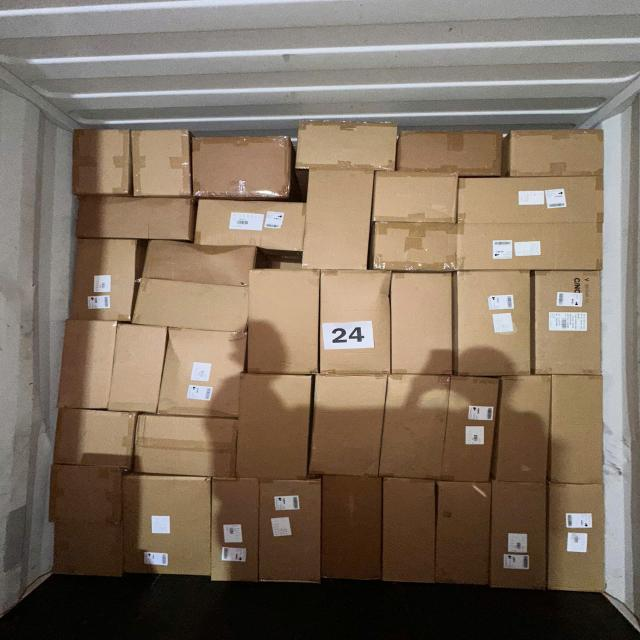Carton: (121, 475, 212, 581), (454, 270, 532, 380), (45, 470, 122, 581), (311, 374, 386, 480), (238, 373, 312, 480), (457, 174, 608, 226), (248, 268, 320, 377), (320, 269, 392, 377), (457, 222, 608, 273), (163, 328, 246, 420), (532, 268, 601, 374), (305, 166, 373, 271), (382, 373, 448, 480), (133, 412, 237, 478), (259, 479, 322, 586), (390, 274, 454, 379), (191, 137, 291, 203), (322, 476, 383, 584), (492, 483, 550, 596), (134, 274, 247, 332), (547, 484, 605, 596), (496, 373, 550, 483), (384, 478, 438, 586), (198, 199, 308, 252), (436, 478, 490, 585), (551, 376, 603, 486), (142, 239, 257, 288), (70, 236, 134, 324), (444, 376, 496, 484), (53, 407, 134, 471), (210, 478, 258, 585), (78, 196, 194, 240), (397, 128, 499, 178), (298, 120, 396, 171), (112, 321, 166, 413), (61, 321, 114, 410), (371, 220, 458, 271), (130, 129, 191, 201), (373, 176, 459, 226), (70, 128, 130, 199)
